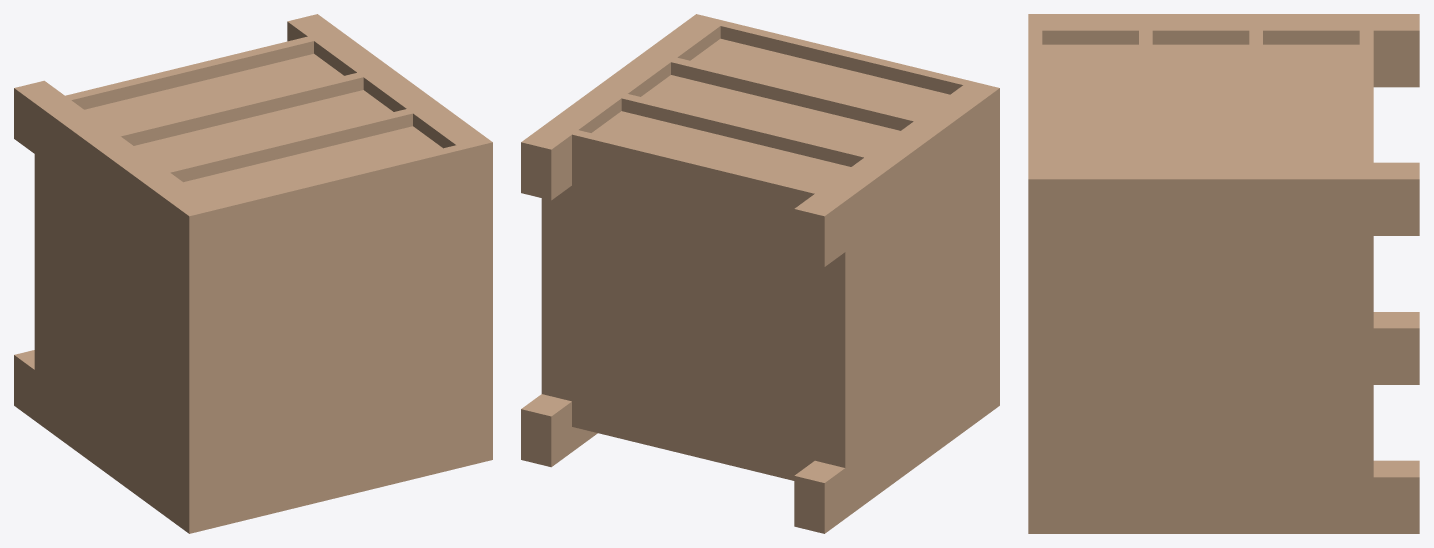
The model's file is wardrobe.glb.
3 views of the same model, side by side, from view 1: azimuth 30°, elevation 25°; view 2: azimuth 150°, elevation 25°; view 3: azimuth 270°, elevation 25° (orthographic). The views are drawn at different scales.
Visible parts, largest first — view 1: furniture/wardrobe; view 2: furniture/wardrobe; view 3: furniture/wardrobe.
Part boxes in pixels (x1,y1,x2,y2): furniture/wardrobe: (14, 14, 492, 533); furniture/wardrobe: (521, 14, 999, 533); furniture/wardrobe: (1028, 14, 1419, 533).
Bounding box in the file's own units: 1 × 1 × 1.
